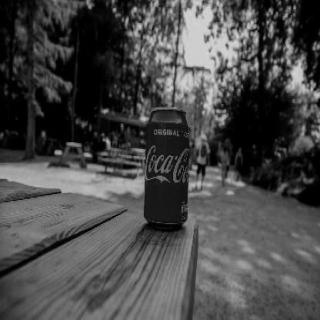alumunium_can: (144, 105, 190, 230)
